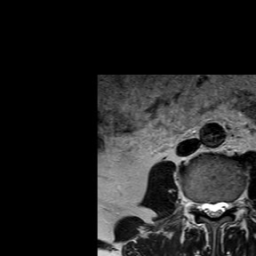CCS_stenosis: (210, 192, 218, 225)
LFS_normal: (228, 192, 237, 216)
LLS_normal: (218, 192, 228, 220)
RFS_normal: (192, 191, 201, 219)
RLS_normal: (201, 194, 210, 222)
